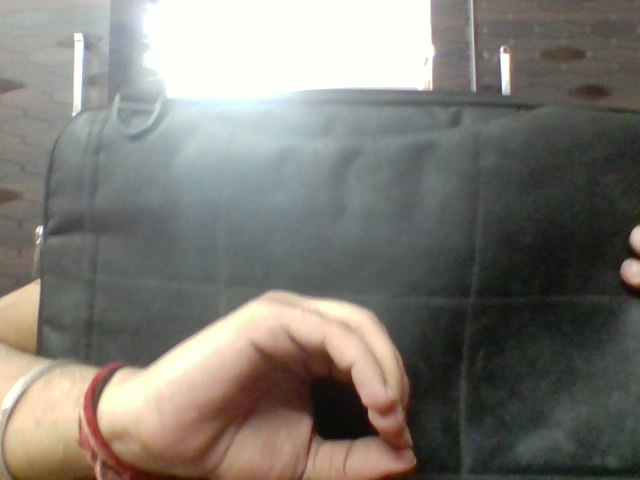o: (153, 282, 427, 474)
